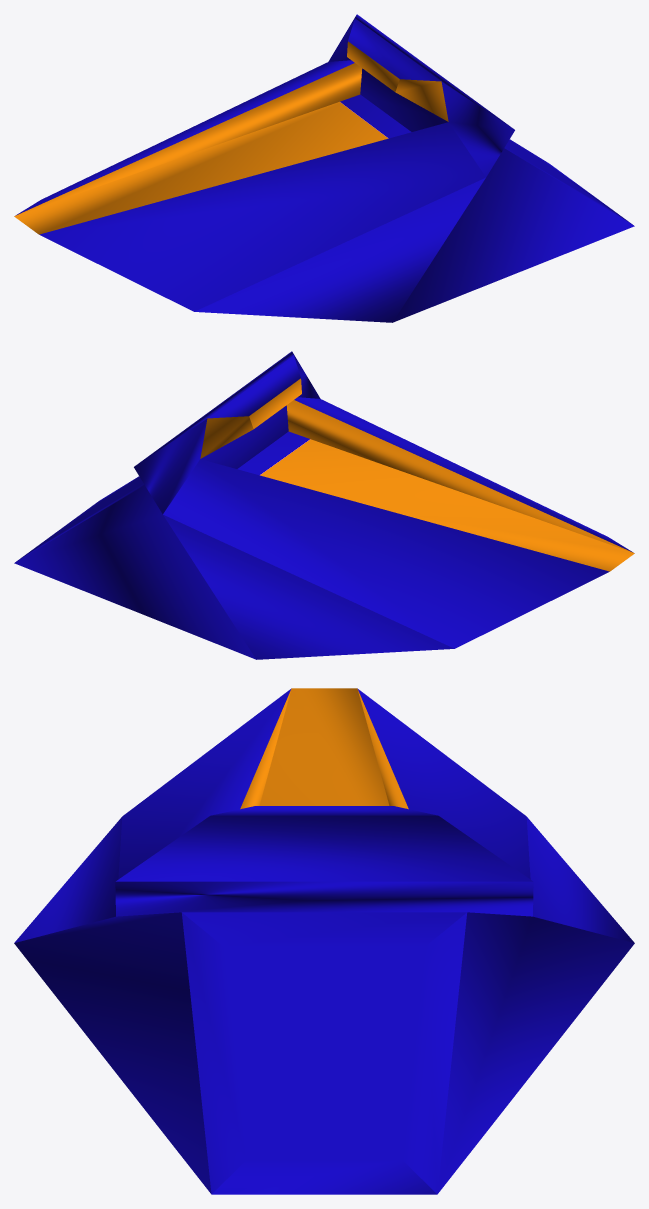
Rendered from mothership.fbx.
The picture shows the model from 3 angles, top to bottom: view 1: azimuth 30°, elevation 25°; view 2: azimuth 150°, elevation 25°; view 3: azimuth 270°, elevation 25°; orthographic projection. The views are drawn at different scales.
Parts seen in each view (by area): view 1: Cube; view 2: Cube; view 3: Cube.
Part boxes in pixels (x1,y1,x2,y2): Cube: (14,14,634,322); Cube: (14,351,634,659); Cube: (14,688,634,1194).
Size of the model in its own units: 85.32 by 27.72 by 61.43.
1 material, 1 textured.
